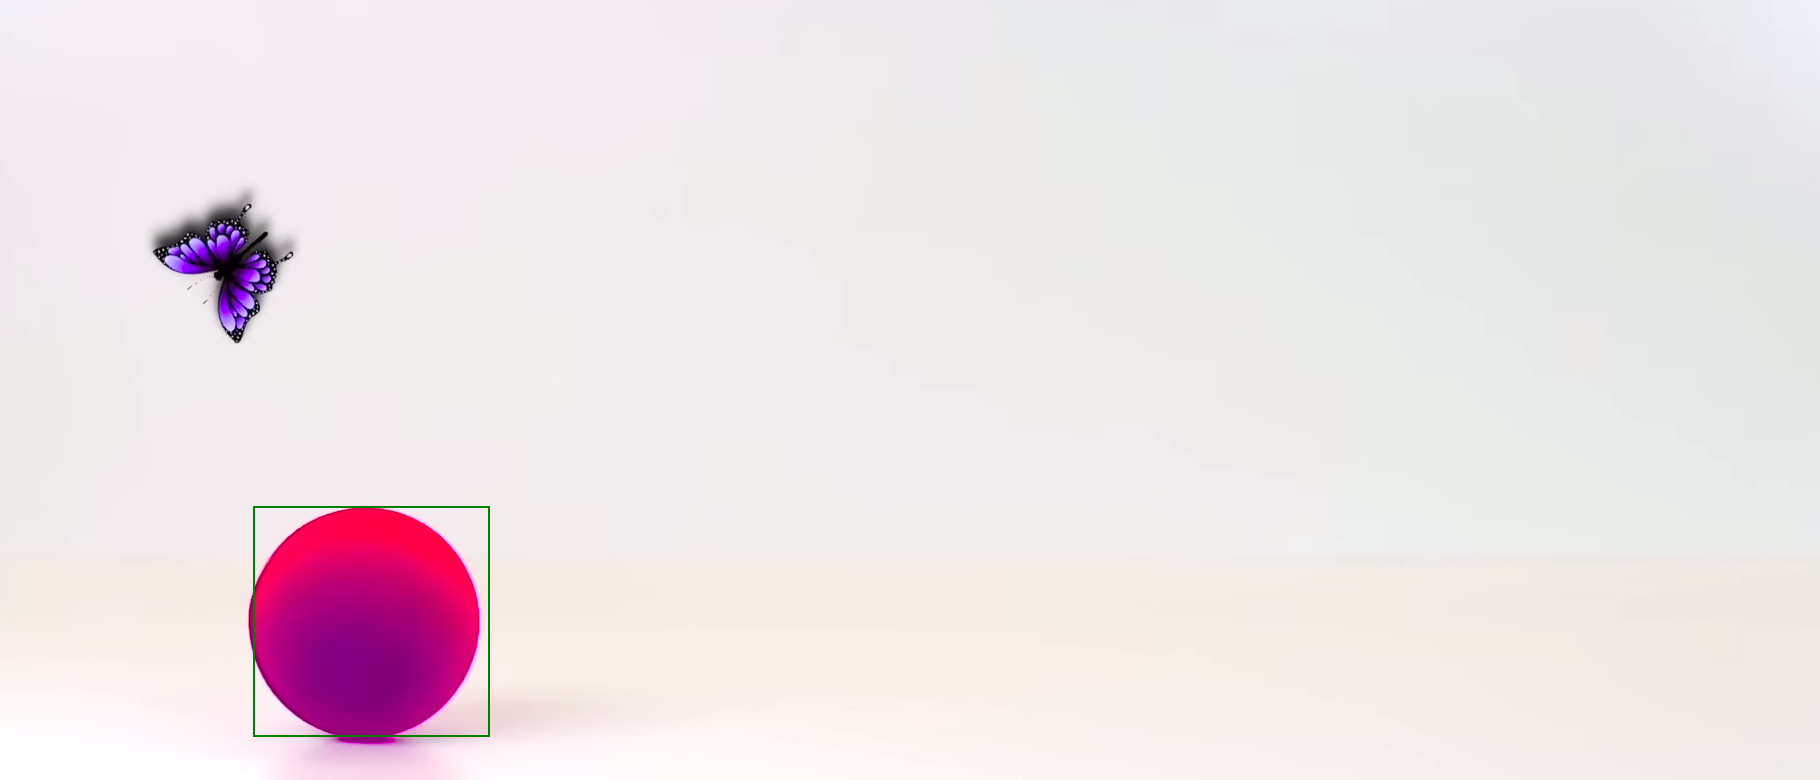Circle: (246, 505, 484, 743)
